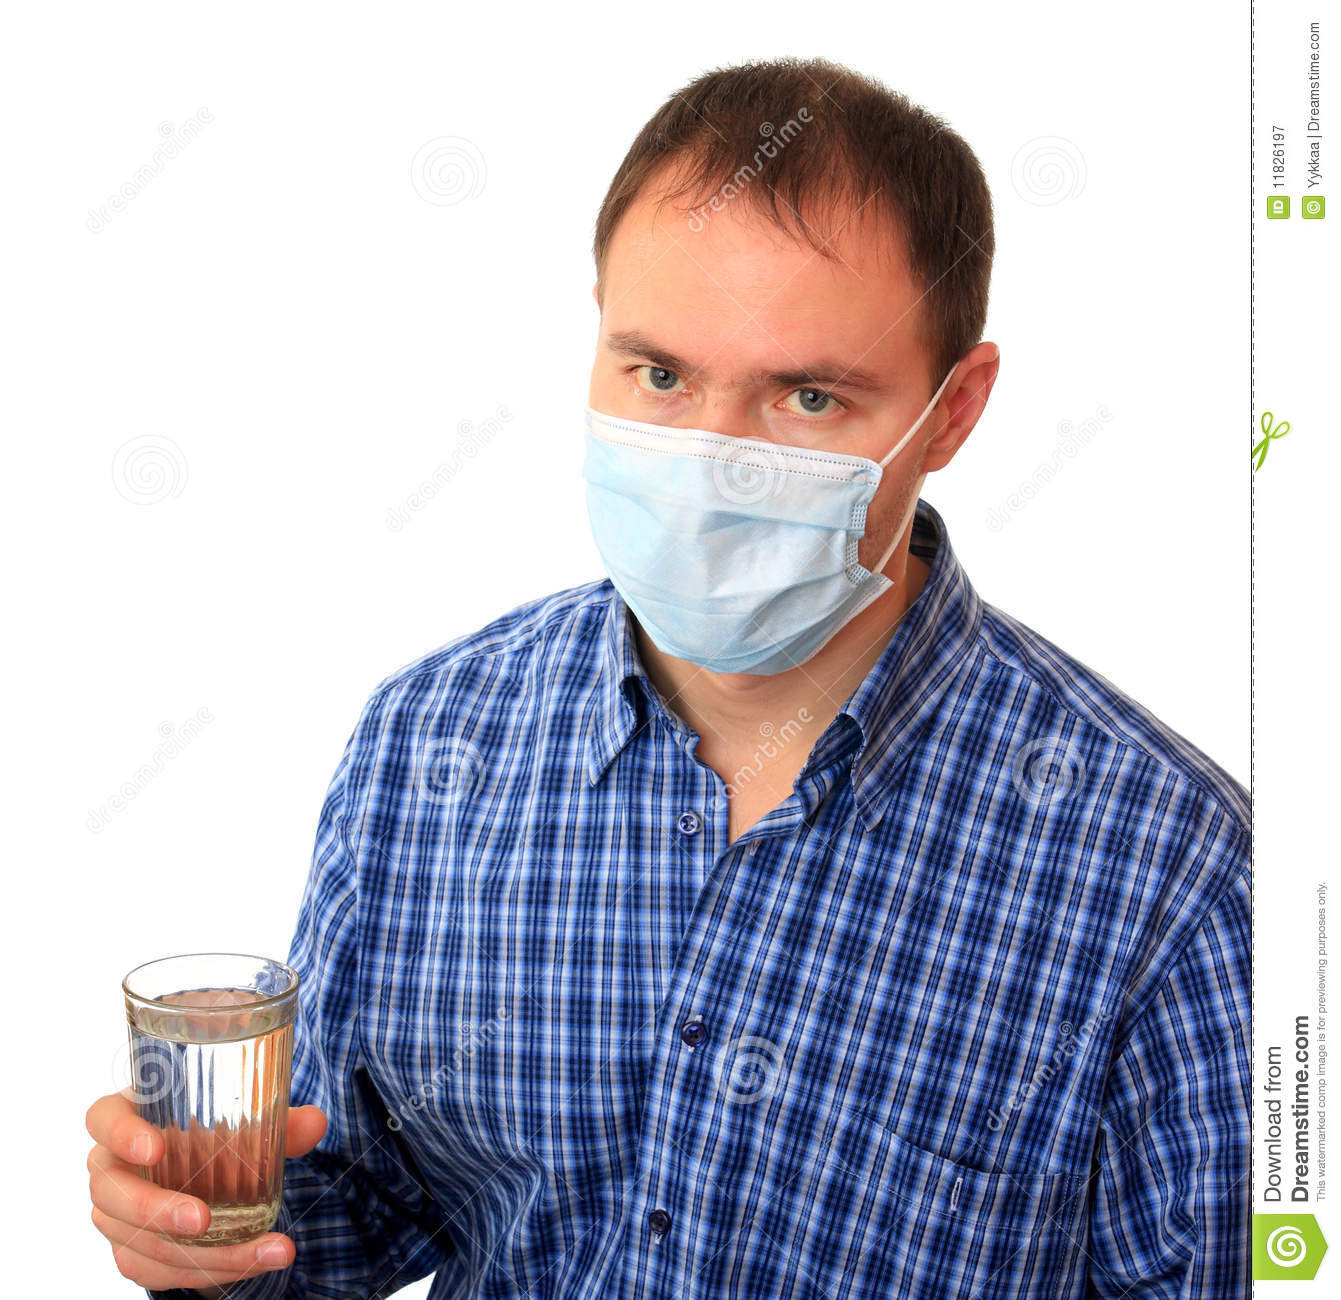mask: (575, 409, 882, 678)
